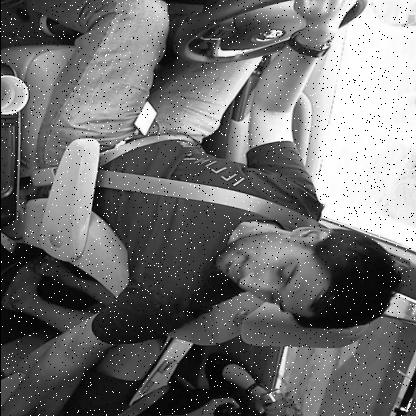seatbelt: (140, 154, 394, 350)
